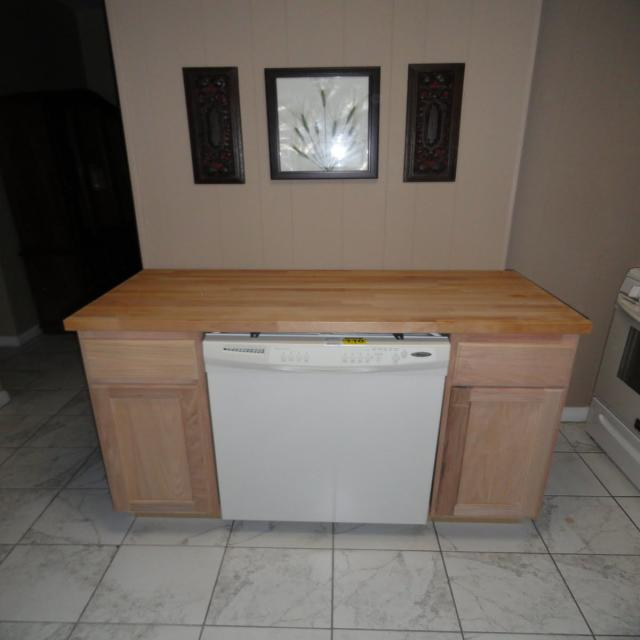dishwasher: (199, 330, 446, 532)
